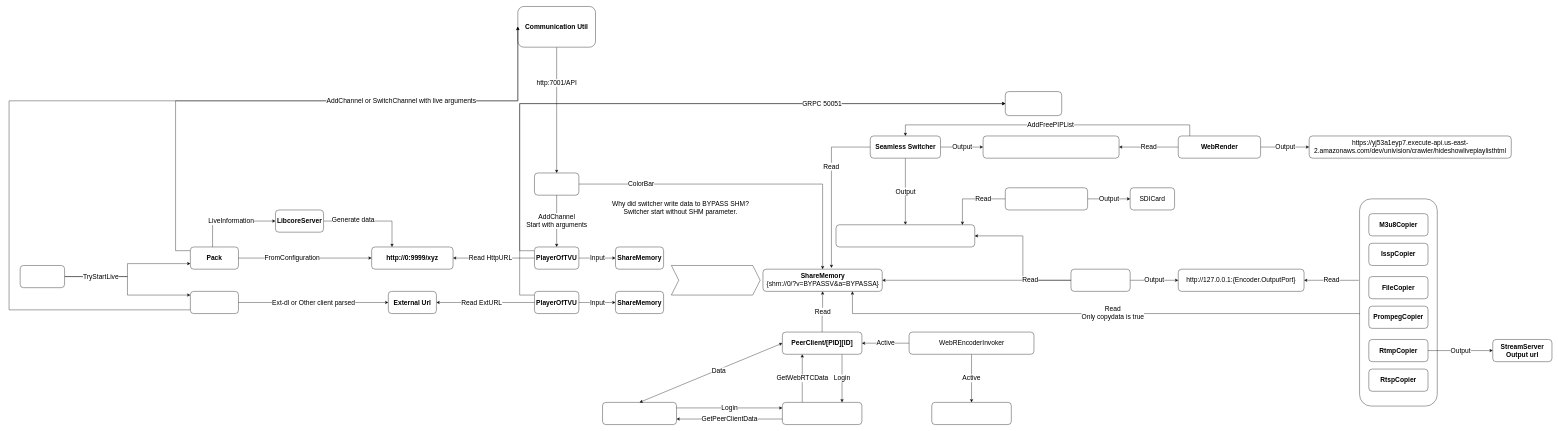
Some shapes in this 1558 by 431 pixel diagram are drawn without their labels. Each missing label, with the centre of its shape:
Copy SHM by Switcher: point 715,280
Ext: point 214,302
GrpcServer: point 1033,103
LiveEncoder TVU264: point 1100,280
PeerClient/[PID]SDI1: point 971,413
PlayerOfTVUSdiOut: point 1046,198
ShareMemory {shm://0/?v=LEGXV&a=LEGXA}: point 1051,147
ShareMemory {shm://0/?v=LVENCSSOV&a=LVENCSSOA}: point 905,235
Signal Center: point 822,413
Switcher: point 556,184
WebApi: point 42,276
WebRTC: point 639,413
